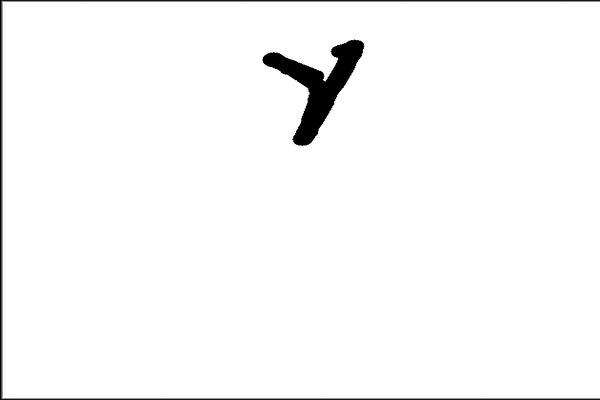Y: (255, 30, 385, 160)
